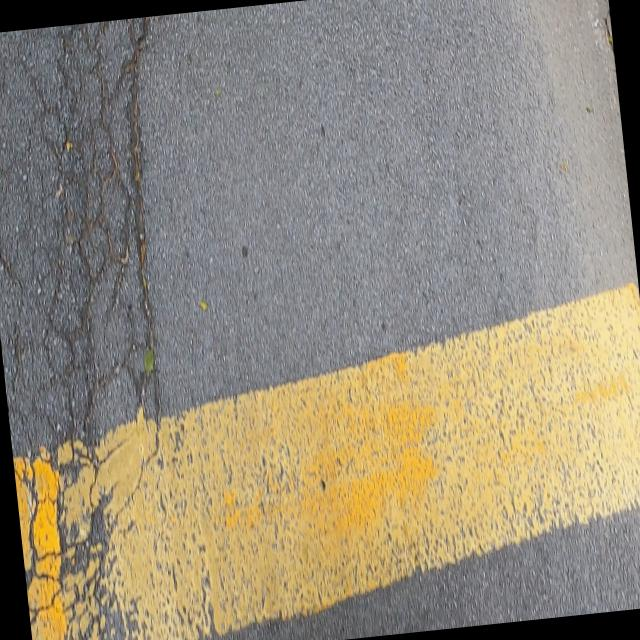Retak-Buaya: (0, 19, 166, 626)
